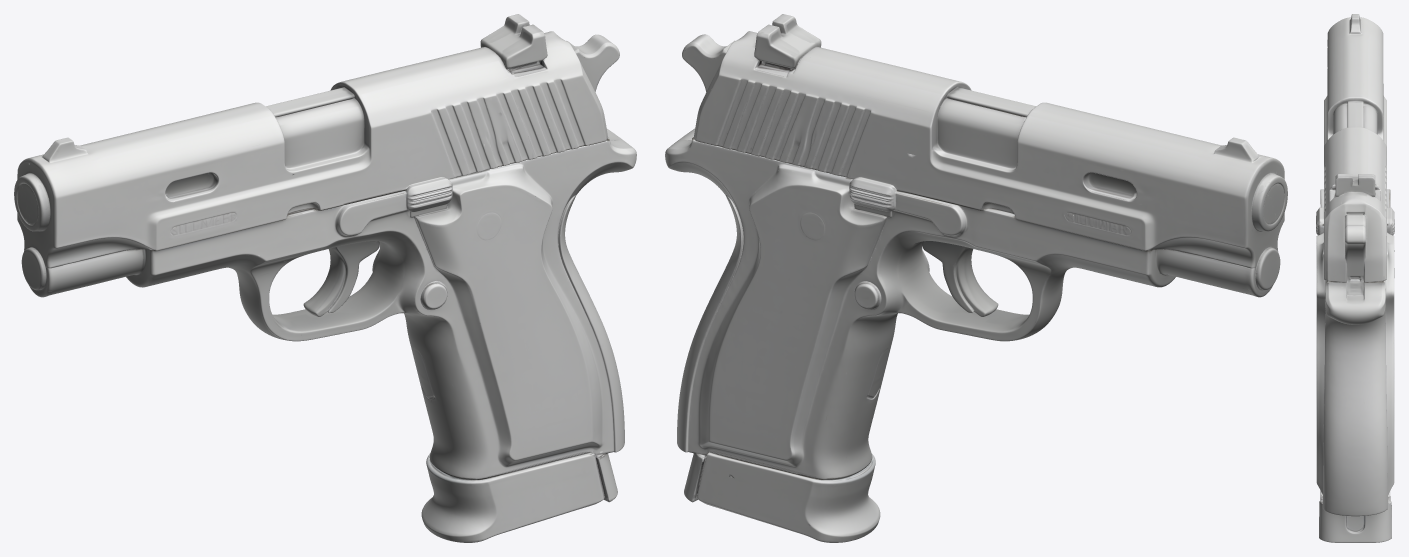
File: science.glb
3 views of the same model, side by side, from view 1: azimuth 30°, elevation 25°; view 2: azimuth 150°, elevation 25°; view 3: azimuth 270°, elevation 25° (orthographic). The views are drawn at different scales.
Visible parts, largest first — view 1: node_0; view 2: node_0; view 3: node_0.
Part boxes in pixels (x1=…): node_0: x1=14, y1=14, x2=636, y2=542; node_0: x1=665, y1=14, x2=1287, y2=542; node_0: x1=1316, y1=14, x2=1394, y2=542.
Bounding box in the file's own units: 0.9956 × 0.7744 × 0.1576.
1 material, 1 textured.
